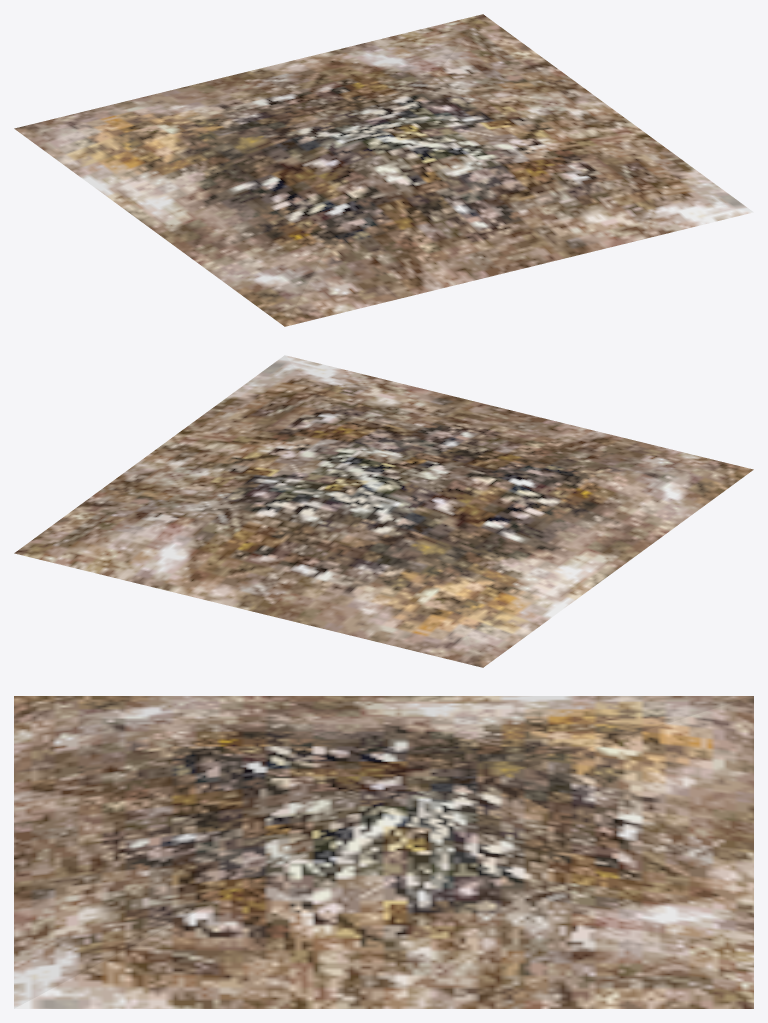
The model's file is building_g_rubble2x2.glb.
The picture shows the model from 3 angles, top to bottom: view 1: azimuth 30°, elevation 25°; view 2: azimuth 150°, elevation 25°; view 3: azimuth 270°, elevation 25°; orthographic projection. The views are drawn at different scales.
Visible parts, largest first — view 1: MeshRoot; view 2: MeshRoot; view 3: MeshRoot.
Boxes of the visible parts, x1,y1,x2,y2 form: MeshRoot: [14, 14, 753, 326]; MeshRoot: [14, 355, 753, 667]; MeshRoot: [14, 696, 753, 1008].
Bounding box in the file's own units: 5.03 × 0.2903 × 5.03.
Materials: 1 (1 with a texture image).
